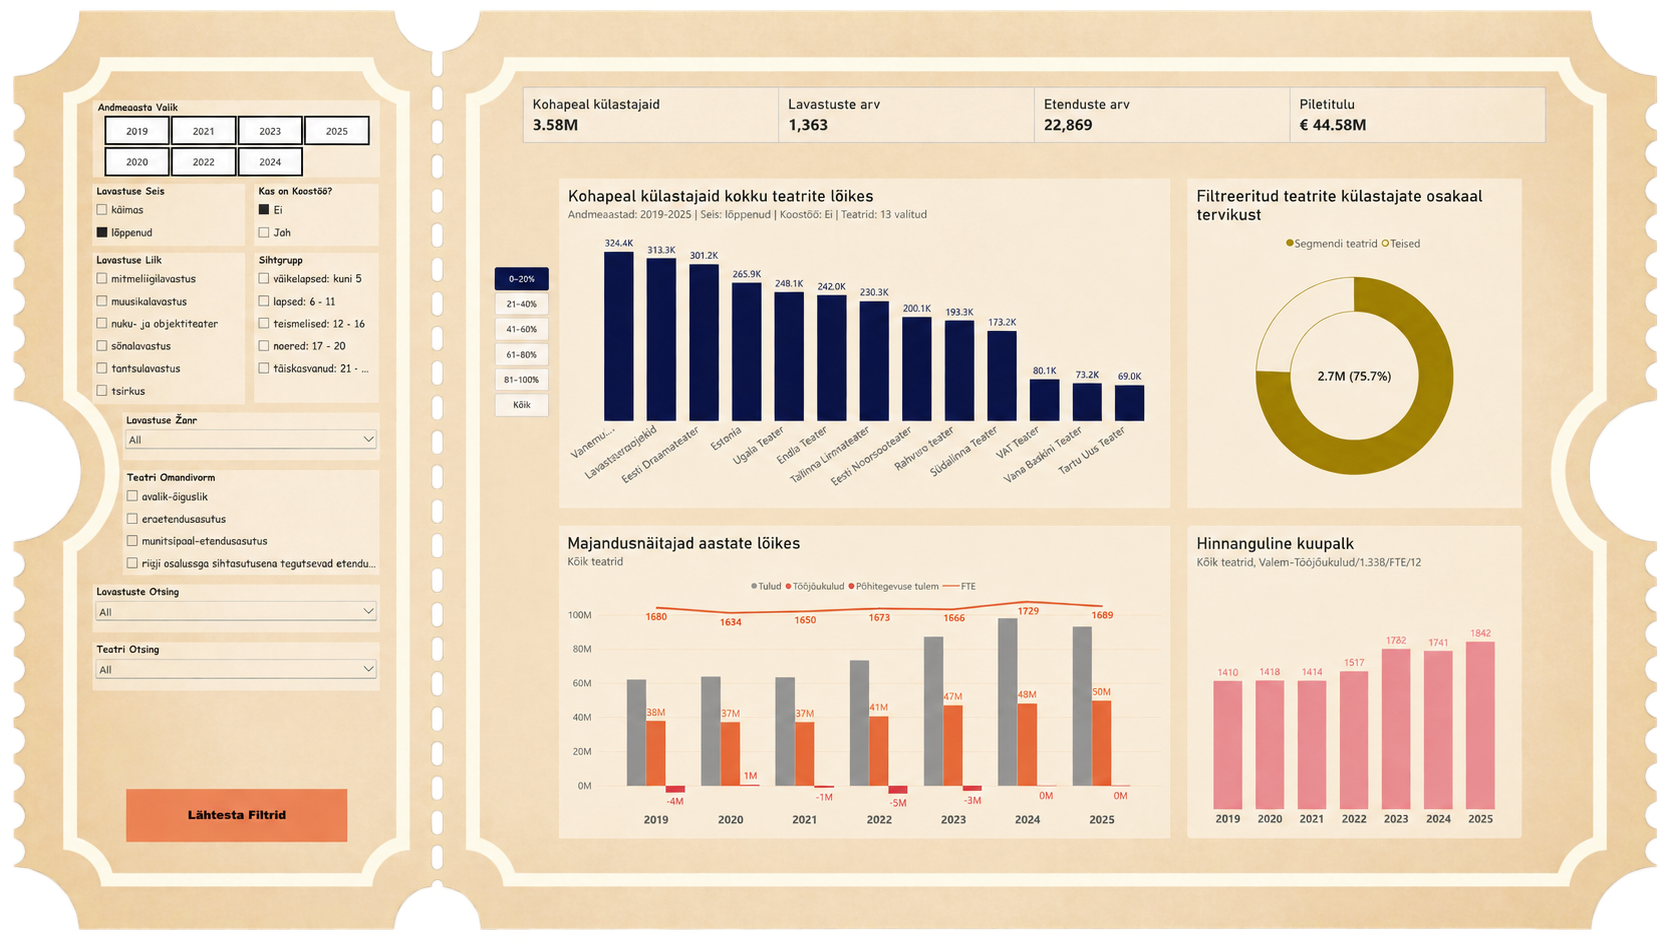

This screenshot's page, from the dashboard's own definition file:
{"tool":"powerbi","page":{"name":"Majandusnäitajad","canvas":[3000,1670],"ordinal":1},"visuals":[{"type":"cardVisual","fields":{"Data":["H_measures.Kohapeal Külastajaid","H_measures.lavastuste_arv","H_measures.Esituskorrad","H_measures.Piletitulu"]},"box":[930.2,135.8,1869.5,101.3],"z":1000},{"type":"clusteredColumnChart","title":"Kohapeal külastajaid kokku teatrite lõikes","fields":{"Category":["dim_teater.teatri_nimi"],"Y":["H_measures.Kohapeal külastajaid"]},"box":[996.7,302.1,1116,601.1],"z":2000},{"type":"advancedSlicerVisual","fields":{"Values":["_r_Vahemikud.Vahemik"]},"box":[879.2,463.8,98.6,274.3],"z":3000},{"type":"donutChart","title":"Filtreeritud teatrite külastajate osakaal tervikust","fields":{"Category":["_r_piruka grupid.Grupp"],"Y":["_r_measures.r_piruka väärtus"]},"box":[2144,302,610.5,601],"z":4000},{"type":"lineClusteredColumnComboChart","title":"Majandusnäitajad aastate lõikes","fields":{"Category":["dim_aeg.aasta"],"Y":["Sum(fact_majandusaasta.tulu)","Sum(fact_majandusaasta.toojoukulud_lisa)","Sum(fact_majandusaasta.pohitegevuse_tulem)"],"Y2":["Sum(fact_majandusaasta.fte)"]},"box":[996.4,935.3,1116.2,570.9],"z":5000},{"type":"columnChart","title":"Hinnanguline kuupalk","fields":{"Category":["dim_aeg.aasta"],"Y":["_r_measures.r_keskmine kuupalk"]},"box":[2144,935,610.5,570],"z":6000},{"type":"slicer","fields":{"Values":["fact_repertuaar.loppenud_lavastus"]},"box":[144.2,312.5,278.8,113],"z":7000},{"type":"slicer","fields":{"Values":["dim_teater.omandivorm"]},"box":[200,834.4,468.9,192],"z":8000},{"type":"slicer","fields":{"Values":["dim_lavastused.lavastuse_liik"]},"box":[144.2,437.5,278.8,276.4],"z":9000},{"type":"slicer","fields":{"Values":["dim_lavastused.sihtgrupp"]},"box":[439.9,437.5,228.3,274],"z":10000},{"type":"slicer","fields":{"Values":["dim_lavastused.H_koostoo_silt"]},"box":[439.9,312.5,228.3,113],"z":11000},{"type":"slicer","fields":{"Values":["dim_aeg.aasta"]},"box":[144.8,159.9,524.8,140],"z":12000},{"type":"actionButton","title":"Vajuta siia ja kaota filtrid","box":[206,1416,404,96],"z":13000},{"type":"slicer","fields":{"Values":["dim_lavastused.H_Lavastus_Silt"]},"box":[144,1042,526,88],"z":14000},{"type":"slicer","fields":{"Values":["dim_lavastused.zhanr"]},"box":[198.8,728.9,471.5,86.6],"z":15000},{"type":"slicer","fields":{"Values":["dim_teater.teatri_nimi"]},"box":[144,1148,526,88],"z":16000}]}

Visuals, with their boxes in screenshot pixels (x1, y1, x2, y2), scaled from the page's 3000x1670 canvas onto the 1670x942 screenshot:
cardVisual - H_measures.Kohapeal Külastajaid x H_measures.lavastuste_arv: x1=518 y1=77 x2=1558 y2=134
"Kohapeal külastajaid kokku teatrite lõikes" clusteredColumnChart: x1=555 y1=170 x2=1176 y2=509
advancedSlicerVisual - _r_Vahemikud.Vahemik: x1=489 y1=262 x2=544 y2=416
"Filtreeritud teatrite külastajate osakaal tervikust" donutChart: x1=1193 y1=170 x2=1533 y2=509
"Majandusnäitajad aastate lõikes" lineClusteredColumnComboChart: x1=555 y1=528 x2=1176 y2=850
"Hinnanguline kuupalk" columnChart: x1=1193 y1=527 x2=1533 y2=849
slicer - fact_repertuaar.loppenud_lavastus: x1=80 y1=176 x2=235 y2=240
slicer - dim_teater.omandivorm: x1=111 y1=471 x2=372 y2=579
slicer - dim_lavastused.lavastuse_liik: x1=80 y1=247 x2=235 y2=403
slicer - dim_lavastused.sihtgrupp: x1=245 y1=247 x2=372 y2=401
slicer - dim_lavastused.H_koostoo_silt: x1=245 y1=176 x2=372 y2=240
slicer - dim_aeg.aasta: x1=81 y1=90 x2=373 y2=169
"Vajuta siia ja kaota filtrid" actionButton: x1=115 y1=799 x2=340 y2=853
slicer - dim_lavastused.H_Lavastus_Silt: x1=80 y1=588 x2=373 y2=637
slicer - dim_lavastused.zhanr: x1=111 y1=411 x2=373 y2=460
slicer - dim_teater.teatri_nimi: x1=80 y1=648 x2=373 y2=697
